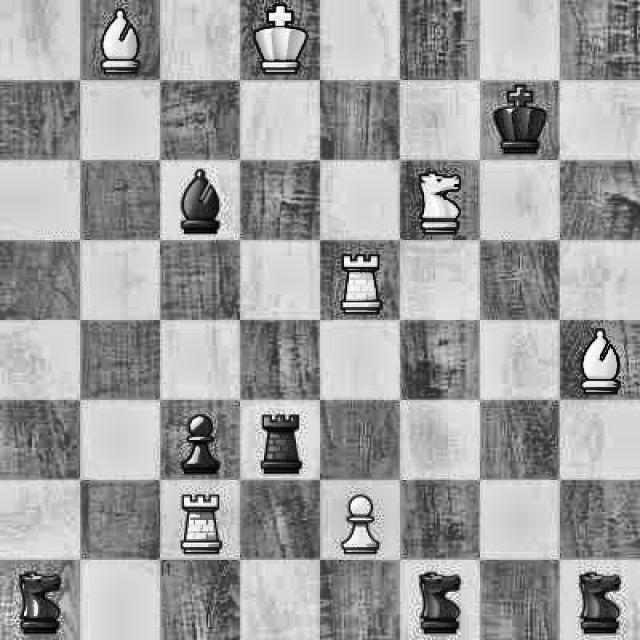Black Knight: (408, 569, 468, 636), (10, 565, 66, 636), (572, 565, 626, 636)
black bishop: (174, 165, 233, 237)
black king: (486, 84, 549, 160)
black pawn: (178, 403, 220, 471)
black rook: (245, 410, 314, 478)
white bishop: (564, 321, 626, 395), (91, 10, 146, 81)
white king: (253, 0, 307, 78)
white pawn: (326, 479, 398, 559)
white rook: (159, 478, 228, 555), (332, 246, 390, 318)
whiteknight: (412, 164, 469, 238)
